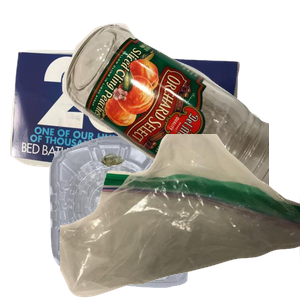glass: (60, 21, 300, 201)
paper: (10, 41, 242, 207)
plastic: (46, 130, 227, 300)
trash: (60, 134, 300, 300)
